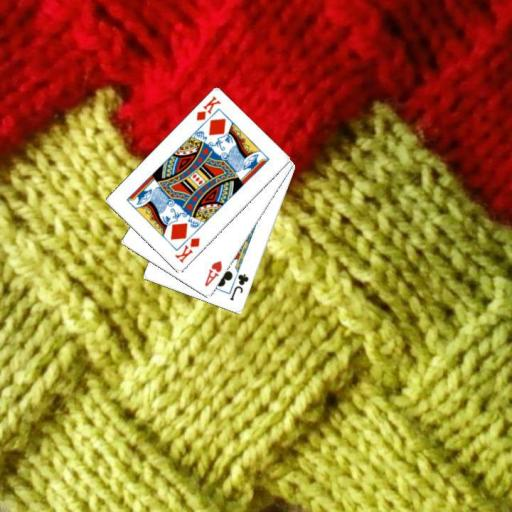AH: (201, 257, 224, 288)
JC: (227, 271, 250, 303)
KD: (172, 235, 202, 265), (193, 93, 222, 122)
